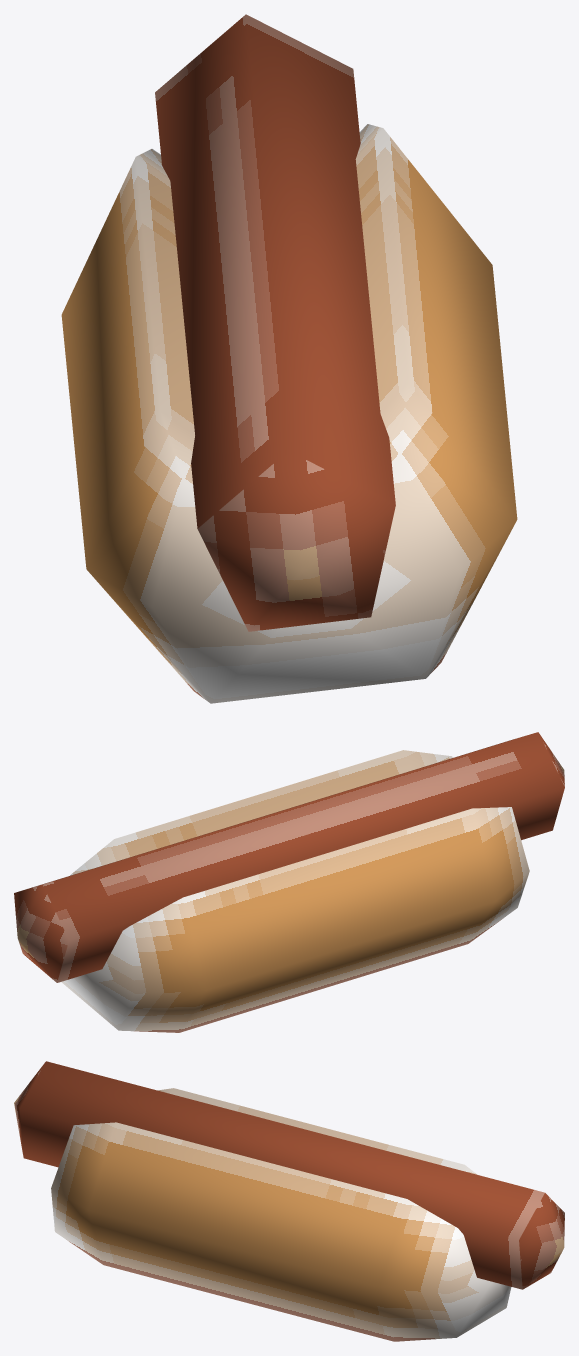
Rendered from H_Hotdog.fbx.
3 views of the same model, one above another, from view 1: azimuth 30°, elevation 25°; view 2: azimuth 150°, elevation 25°; view 3: azimuth 270°, elevation 25° (orthographic). The views are drawn at different scales.
Parts seen in each view (by area): view 1: HotDog; view 2: HotDog; view 3: HotDog.
Part boxes in pixels (x1,y1,x2,y2): HotDog: [61, 14, 517, 703]; HotDog: [14, 732, 564, 1032]; HotDog: [14, 1061, 564, 1341].
Bounding box in the file's own units: 25.17 × 13.88 × 39.29.
